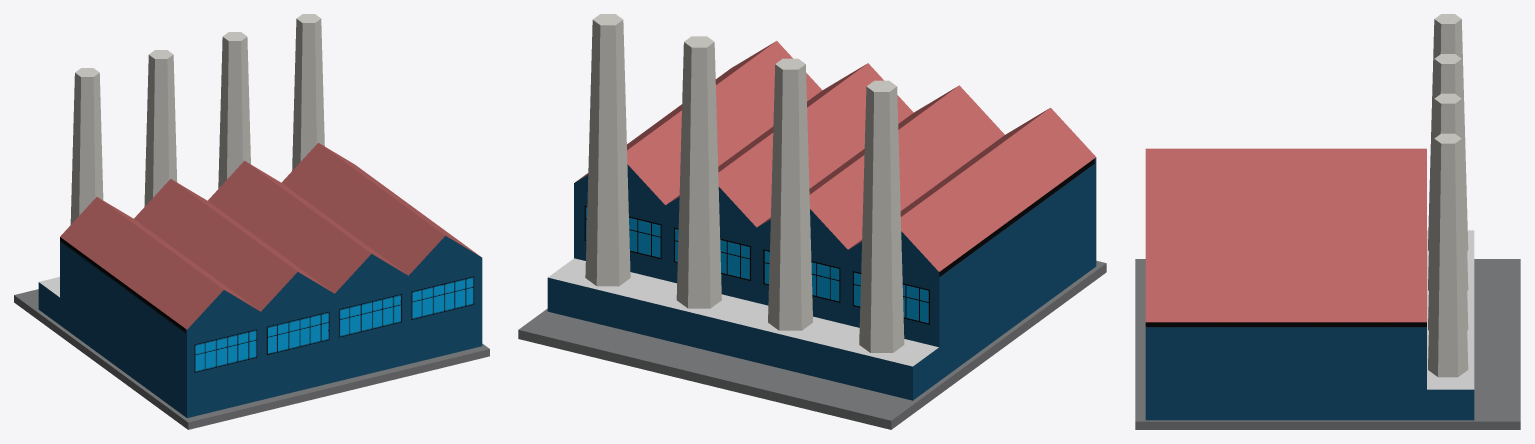
Rendered from factory_3.dae.
The picture shows the model from 3 angles, left to right: view 1: azimuth 30°, elevation 25°; view 2: azimuth 150°, elevation 25°; view 3: azimuth 270°, elevation 25°; orthographic projection. The views are drawn at different scales.
Visible parts, largest first — view 1: group_0 (×9); view 2: group_0 (×10); view 3: group_0 (×9).
Boxes of the visible parts, left/top/right/bottom form: group_0 (×9): left=14, top=14, right=489, bottom=429; group_0 (×10): left=518, top=14, right=1106, bottom=429; group_0 (×9): left=1135, top=14, right=1520, bottom=429.
Size of the model in its own units: 134 by 134 by 103.
Materials: 6 (6 with a texture image).
